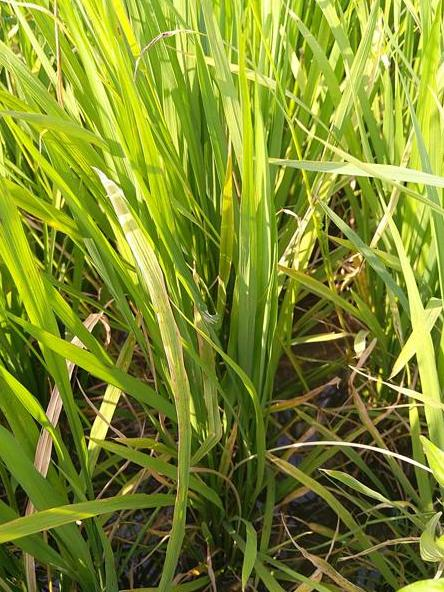Leaf Blight: (96, 171, 191, 592), (34, 429, 52, 478), (46, 386, 63, 428), (84, 313, 105, 332), (26, 553, 36, 592), (72, 337, 86, 349), (26, 500, 35, 516), (68, 361, 74, 377)
